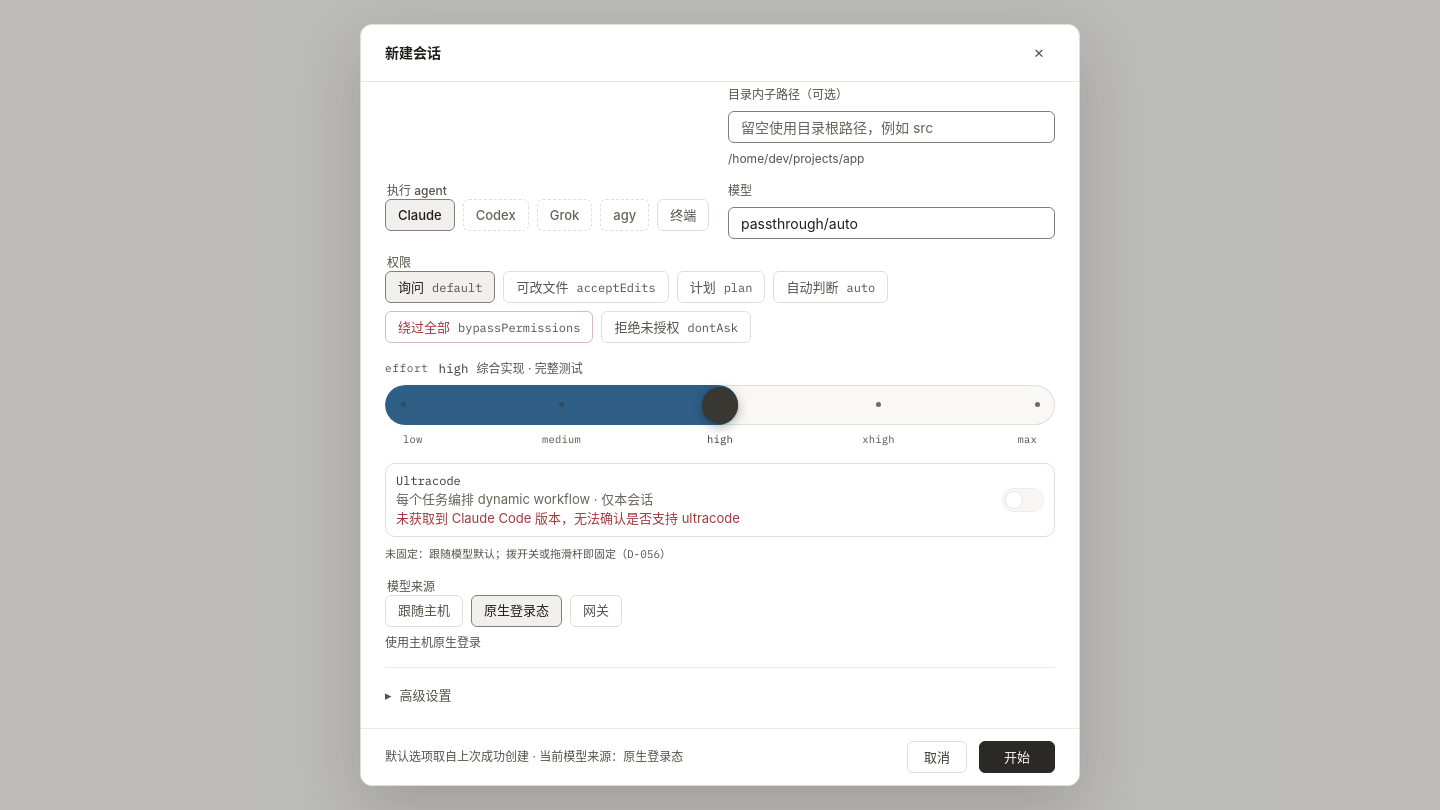
Test: still points at the Provider page when no gateway is configured
(page scrolled)
Click the button with test id "new-session-delegation-gateway". click: [596, 610]
box: [570,594,622,626]
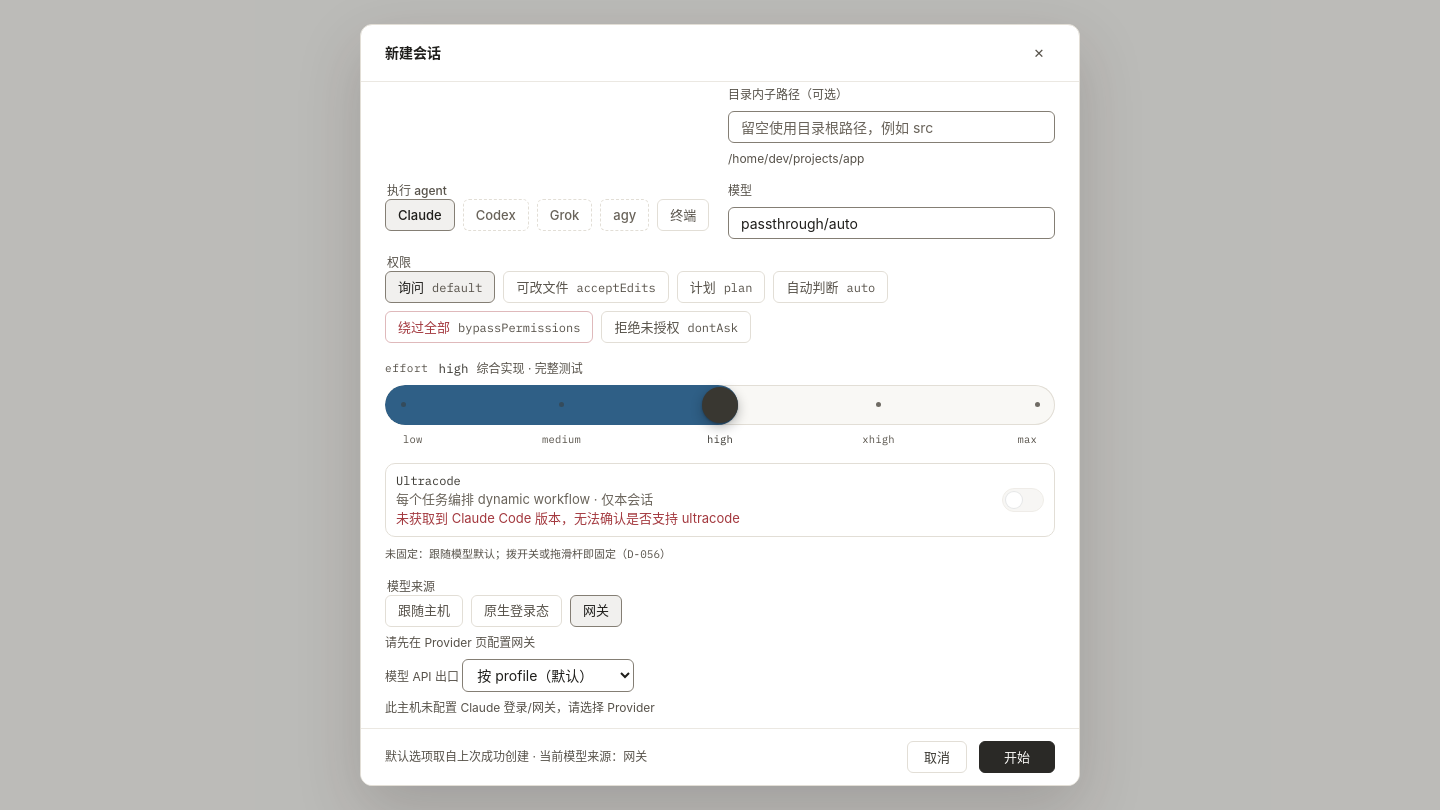
Result: the text with test id "new-session-gateway-profile" reads "请先在 Provider 页配置网关" at [385,634,535,650]
